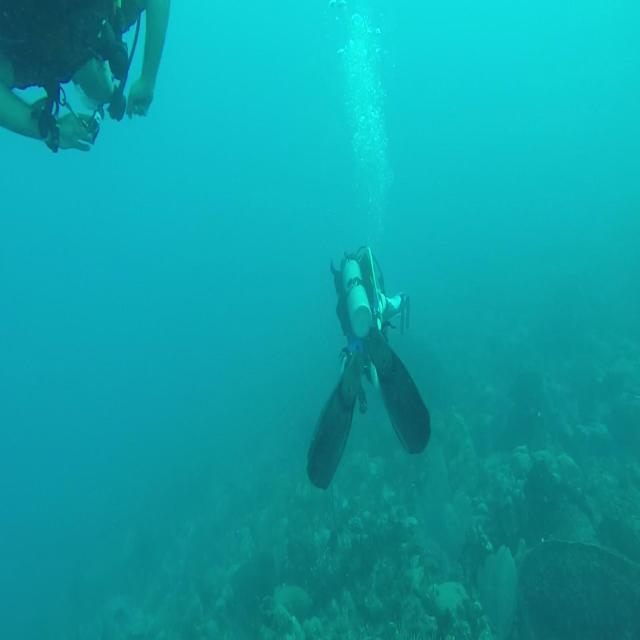human: (306, 244, 431, 491), (1, 0, 170, 154)
